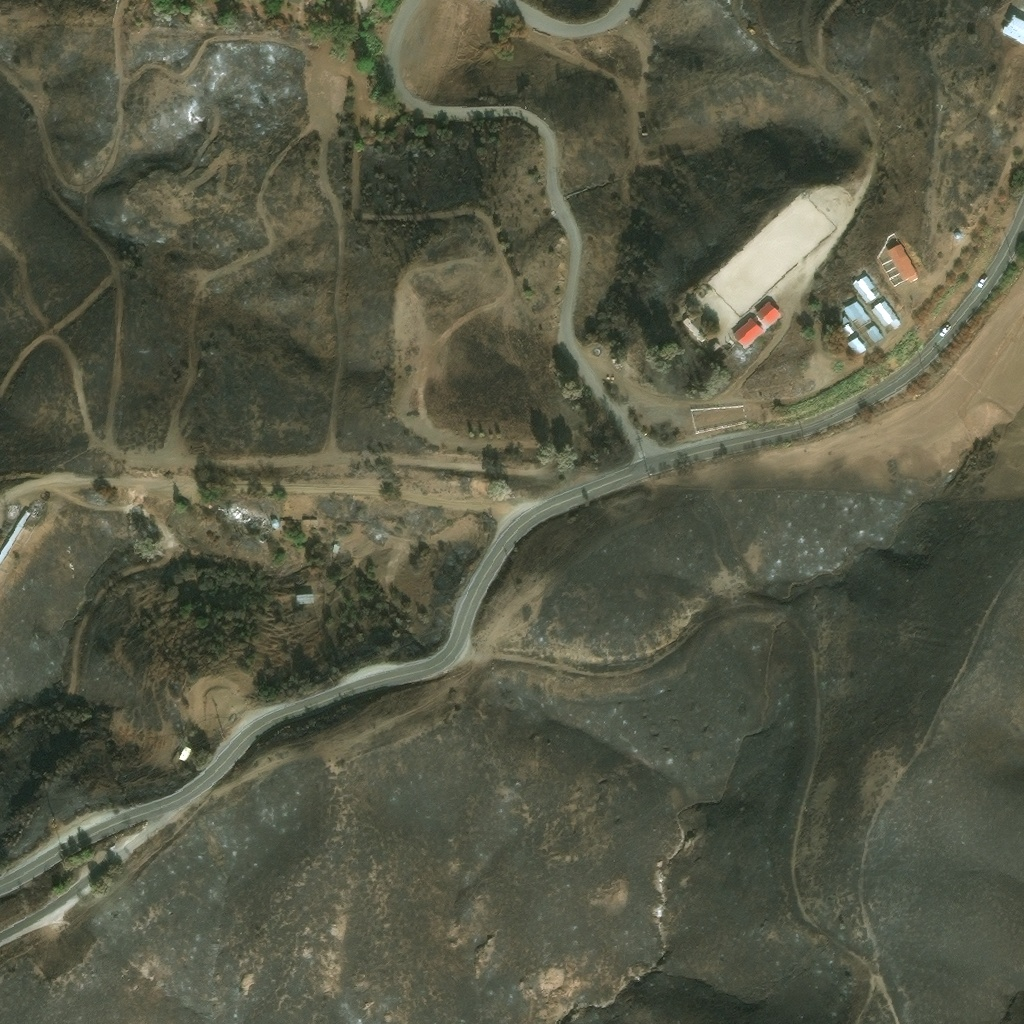0 no-damage: (852, 273, 902, 330), (842, 299, 884, 343), (887, 242, 918, 282), (838, 315, 868, 356), (731, 316, 763, 348), (756, 300, 781, 325), (682, 316, 705, 342), (1004, 13, 1023, 43), (9, 524, 22, 542), (178, 744, 192, 760), (17, 510, 30, 526), (297, 592, 314, 602), (2, 539, 13, 553), (270, 518, 280, 529), (710, 341, 720, 351), (330, 541, 339, 552), (282, 517, 293, 525), (0, 551, 6, 564), (639, 116, 647, 125), (954, 231, 961, 239), (311, 518, 318, 525), (302, 518, 310, 524)
3 destroyed: (226, 502, 267, 530), (31, 497, 44, 510), (27, 504, 40, 516), (181, 475, 189, 481)
4 un-classified: (288, 0, 299, 5)
